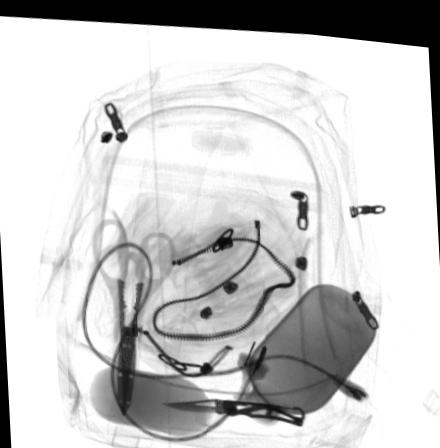Knife: (160, 392, 306, 420)
Scissors: (90, 214, 178, 414)
